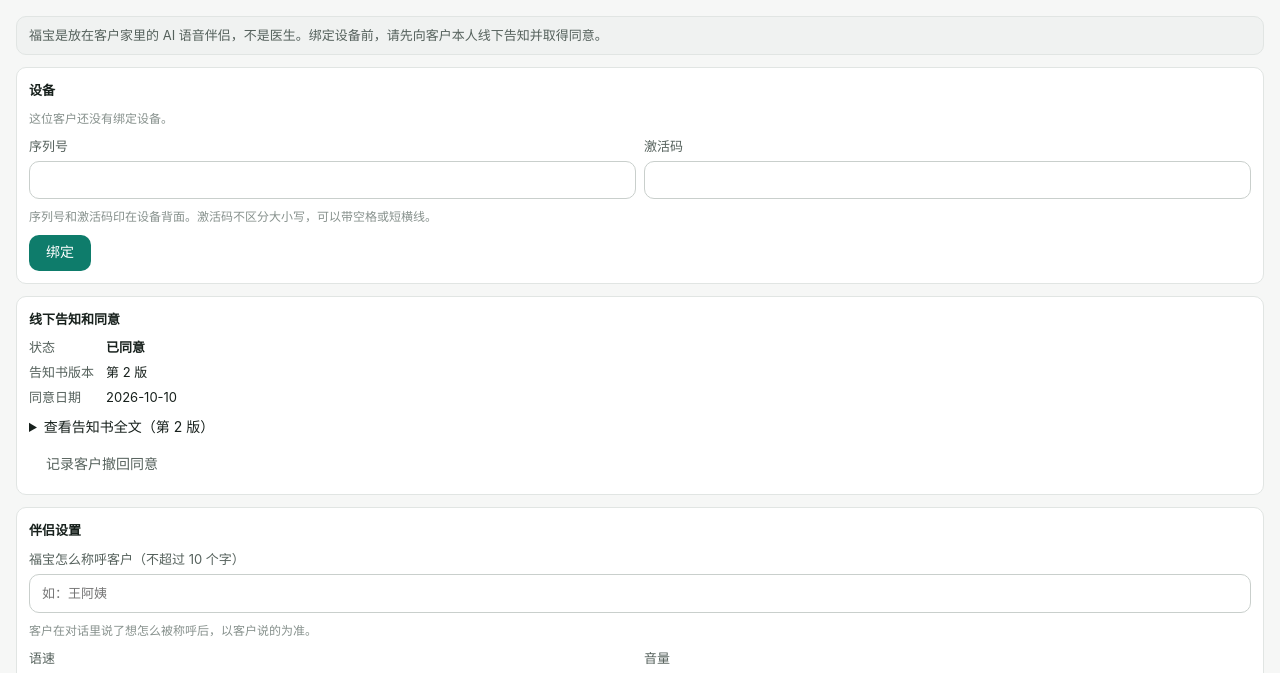
Test: 伴侣视图 › 绑定：序列号或激活码不可用时只提示“不可用”；成功后显示尾号和待激活
The width and height of the screenshot is (1280, 673).
In the field labelled "序列号": point(332, 180) 29,161 -> 636,199, type "HB-TEST-0001"
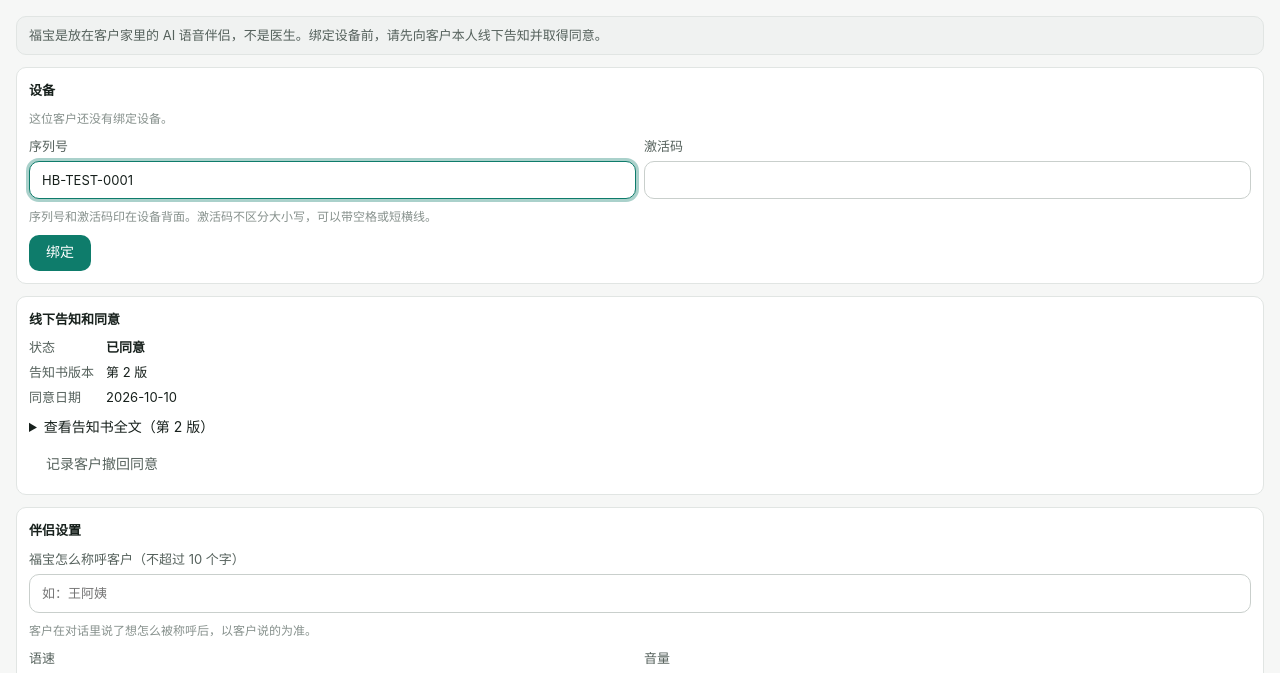
In the field labelled "激活码": point(948, 180) 644,161 -> 1251,199, type "abcd-1234"
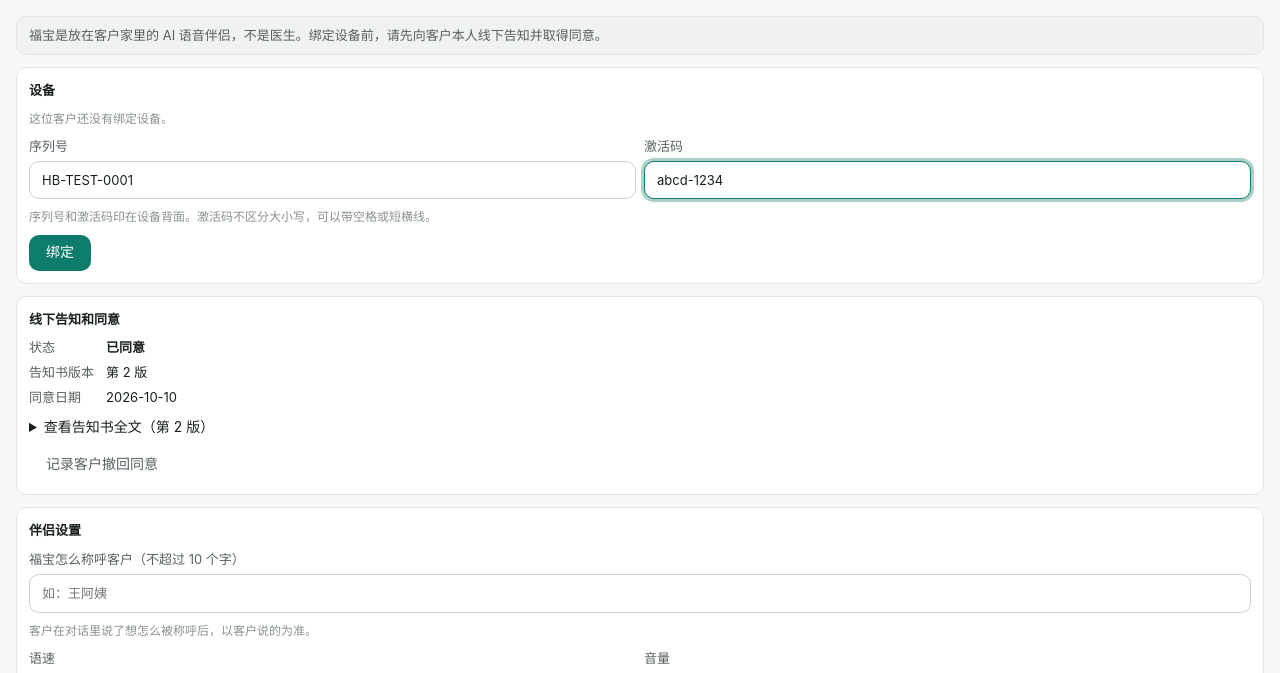
Click the button "绑定": point(60, 253) 29,235 -> 91,271
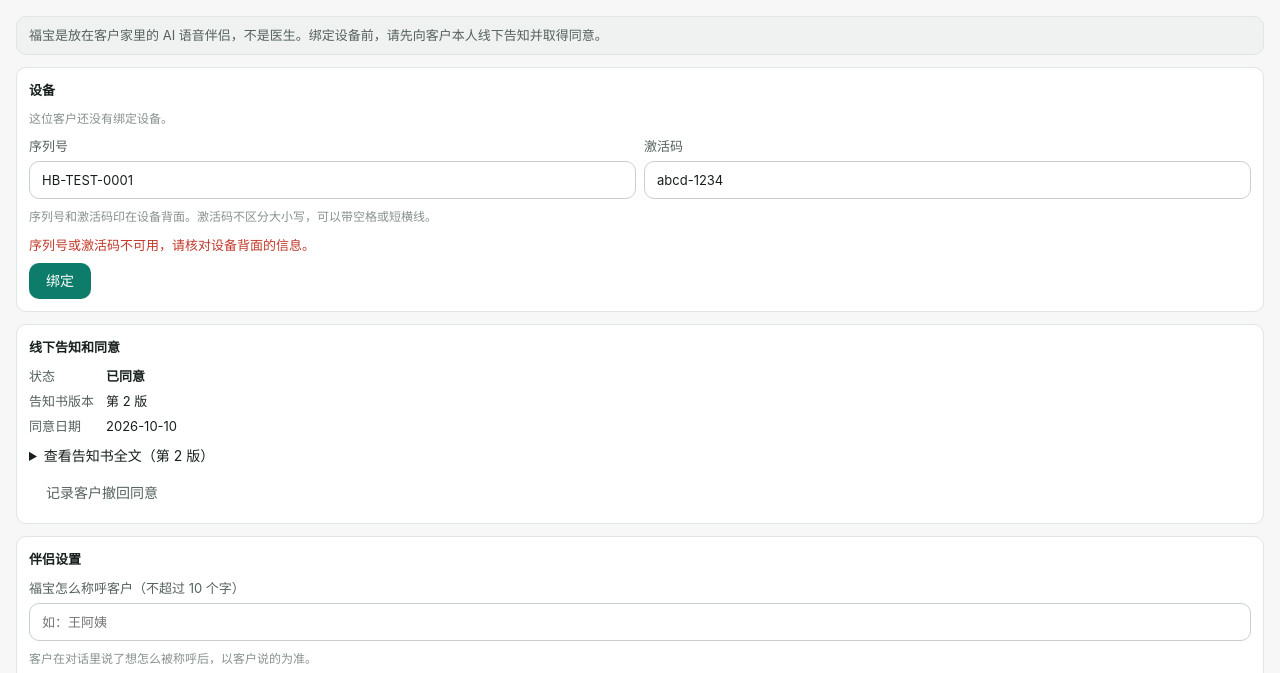
Check: the message reads "序列号或激活码不可用，请核对设备背面的信息。", box 29,237 -> 315,253
Click the button "绑定": point(60, 281) 29,263 -> 91,299
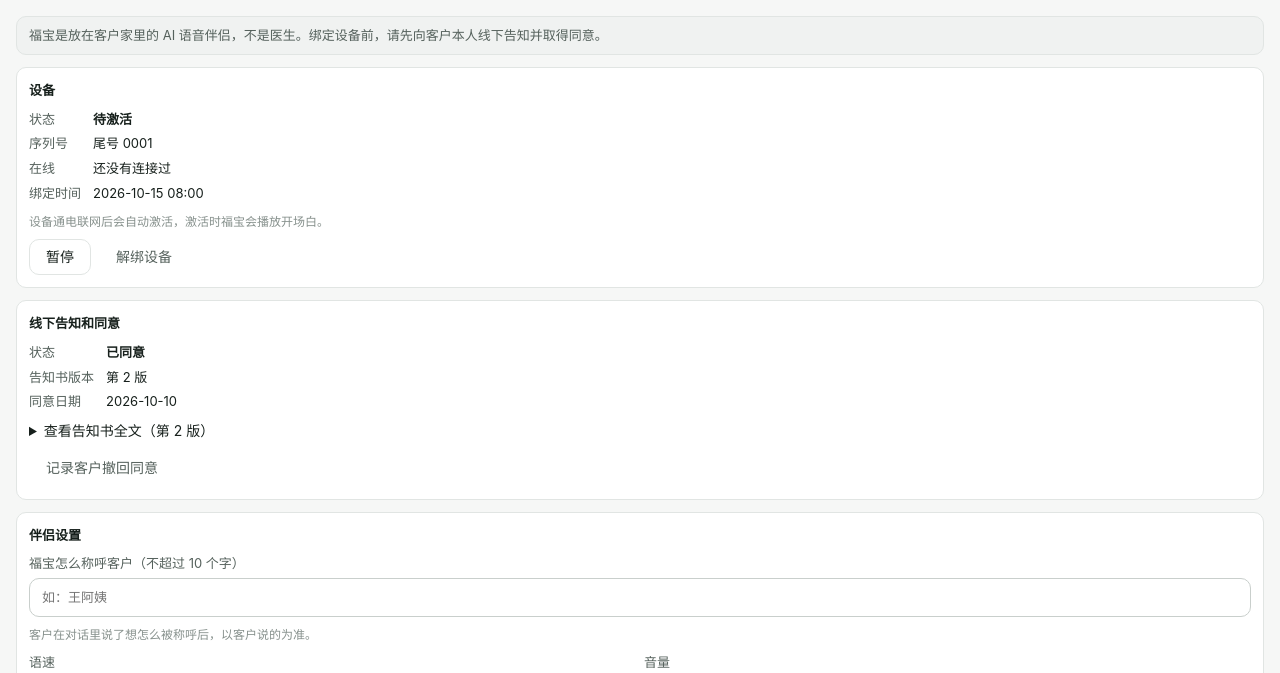
Check: the text "尾号 0001" is shown, box 93,135 -> 153,151
Check: the text "待激活" is shown, box 93,111 -> 132,127
